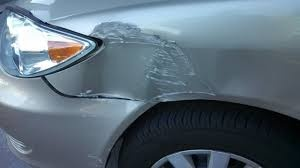Dent: (75, 22, 186, 114)
Scratch: (144, 42, 200, 98), (6, 136, 37, 155), (86, 152, 102, 165)
